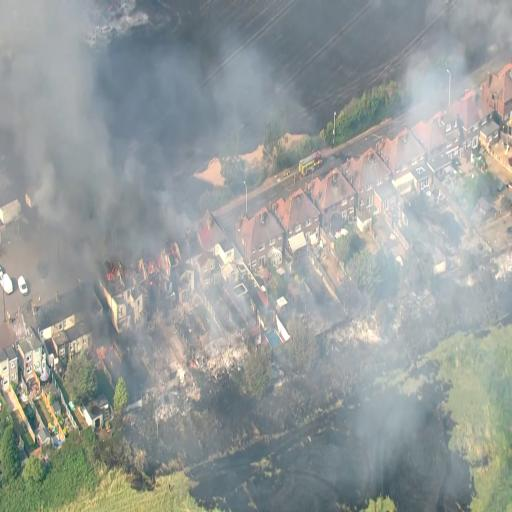smoke: (0, 0, 84, 198), (63, 150, 165, 261)
